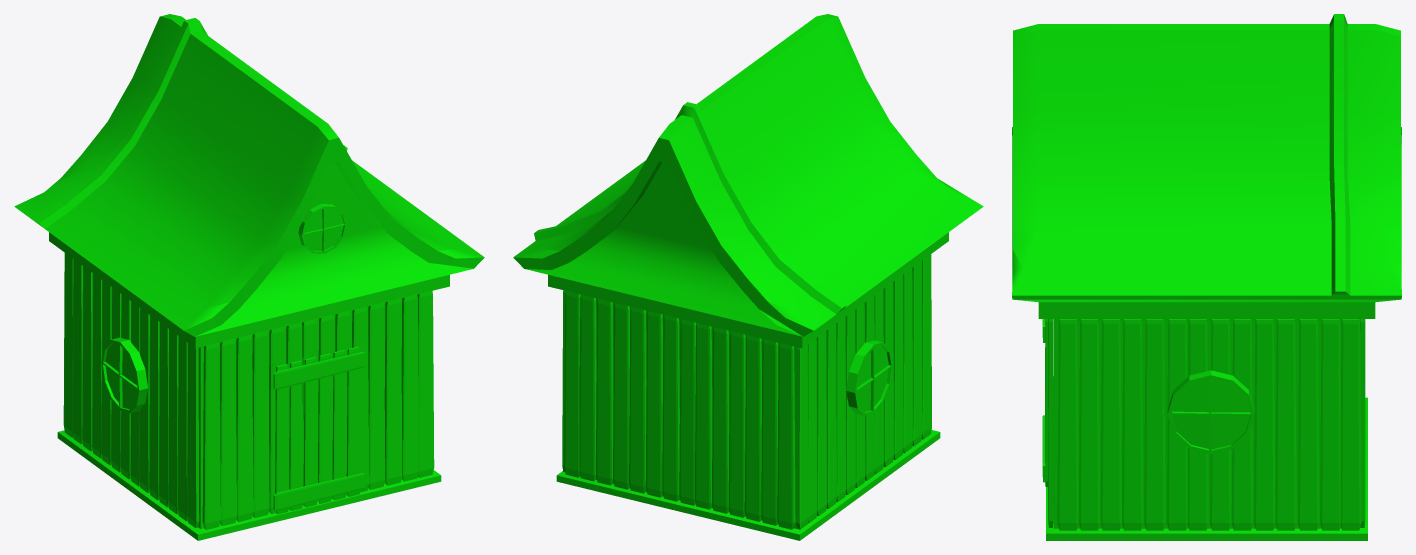
File: House 04.fbx
3 renders of one model, left to right at view 1: azimuth 30°, elevation 25°; view 2: azimuth 150°, elevation 25°; view 3: azimuth 270°, elevation 25°, orthographic. The views are drawn at different scales.
Parts seen in each view (by area): view 1: HOUSE_04; view 2: HOUSE_04; view 3: HOUSE_04.
Part boxes in pixels (x1=…): HOUSE_04: x1=14, y1=14, x2=484, y2=540; HOUSE_04: x1=513, y1=14, x2=983, y2=540; HOUSE_04: x1=1012, y1=14, x2=1401, y2=540.
Bounding box in the file's own units: 706 × 869 × 674.
